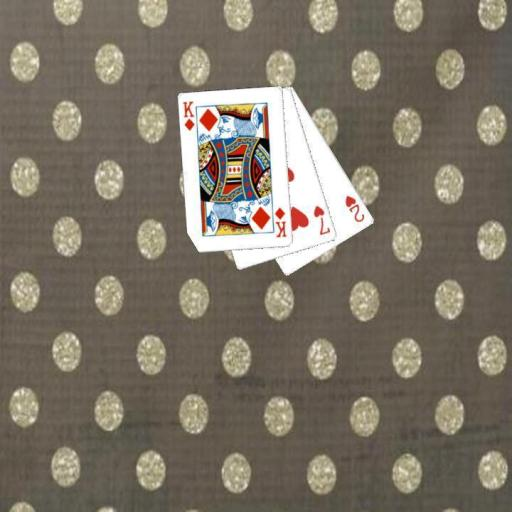card-corner: (342, 192, 366, 224), (311, 202, 332, 237), (272, 204, 288, 239), (180, 98, 196, 132)
